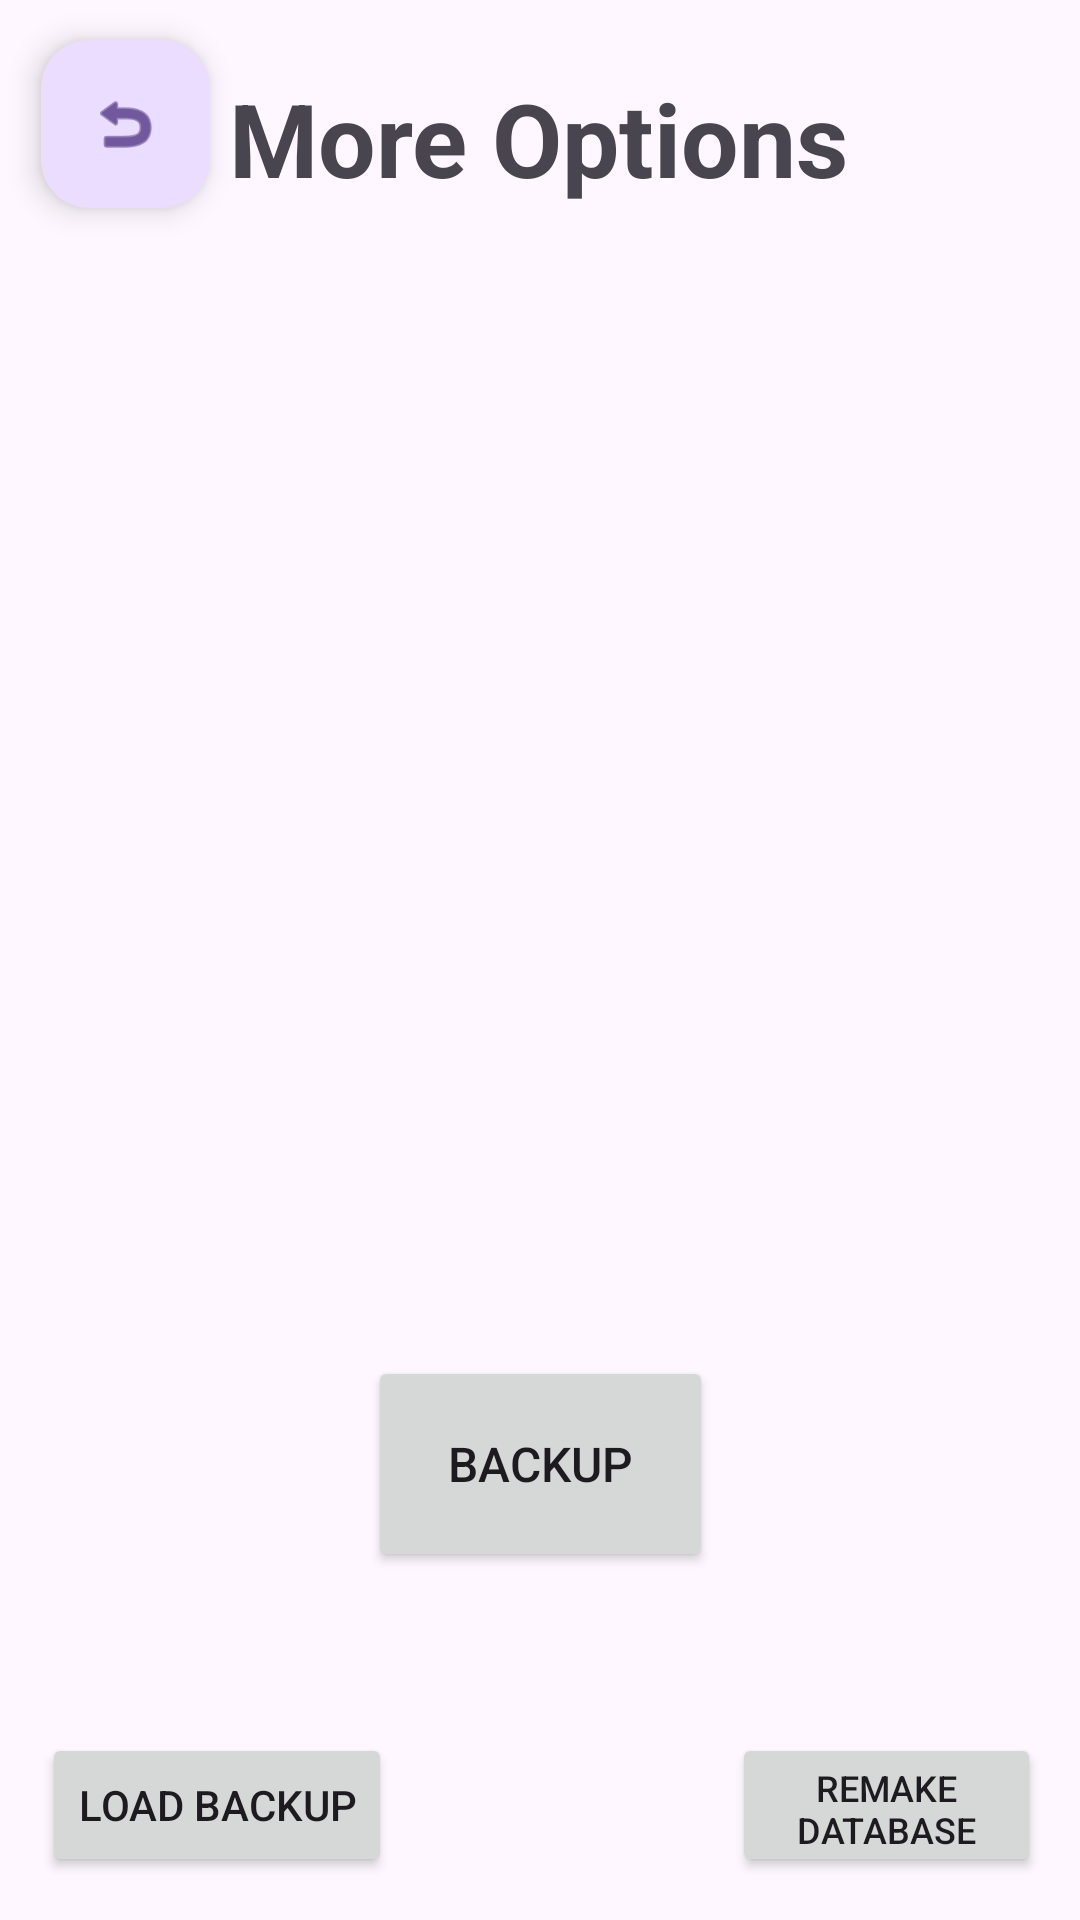

Icons on this 1080x1920 Android screen, each with its box as (x1, y1, x2, y2):
revert: (100, 101, 152, 148)
